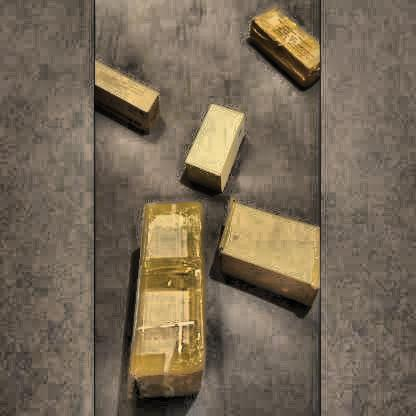no defect parcel: (128, 190, 208, 411), (211, 200, 322, 323), (88, 50, 167, 154), (242, 5, 320, 96), (179, 94, 250, 193)
